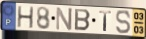8: (36, 6, 51, 31)
B: (74, 8, 92, 32)
H: (16, 5, 35, 30)
N: (55, 6, 74, 31)
S: (115, 10, 132, 35)
T: (98, 10, 113, 33)
